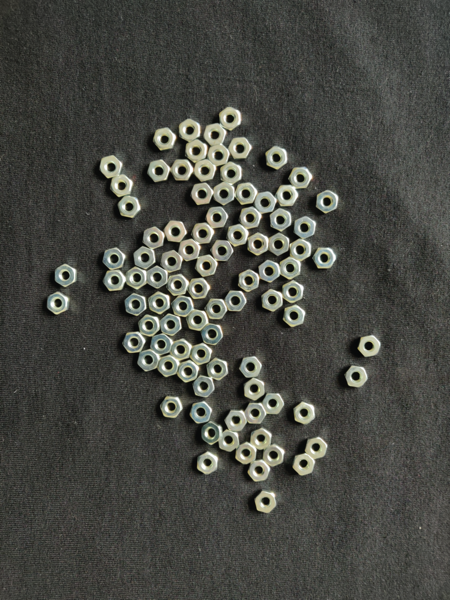nut: (153, 127, 177, 151), (219, 107, 242, 132), (265, 146, 288, 171), (203, 123, 227, 146), (289, 166, 313, 189), (148, 159, 171, 183), (55, 264, 78, 288), (46, 292, 70, 315), (239, 206, 262, 230), (239, 356, 263, 379), (344, 366, 369, 388), (229, 137, 252, 160), (100, 155, 123, 178), (111, 175, 134, 198), (294, 216, 317, 239), (161, 250, 184, 273), (201, 323, 224, 346), (157, 355, 180, 378), (160, 396, 183, 419), (262, 392, 285, 415), (305, 437, 328, 460), (293, 453, 316, 476), (179, 119, 201, 143), (317, 190, 339, 214), (191, 223, 215, 245), (294, 401, 316, 425), (255, 490, 277, 514), (186, 140, 208, 163), (118, 196, 141, 218), (194, 159, 216, 182), (191, 183, 214, 205), (235, 183, 258, 205), (254, 192, 277, 214), (206, 207, 229, 229), (103, 248, 126, 270), (103, 270, 126, 292), (143, 227, 165, 250), (164, 221, 187, 243), (227, 224, 249, 247), (290, 239, 312, 262), (134, 247, 156, 270), (179, 239, 201, 262), (211, 240, 234, 262), (195, 255, 218, 277), (166, 274, 189, 296), (187, 278, 210, 300), (125, 293, 147, 316), (282, 281, 305, 303), (262, 289, 284, 312), (284, 305, 306, 328), (187, 309, 209, 332), (138, 315, 161, 337), (123, 332, 146, 354), (177, 360, 199, 383), (189, 402, 212, 424), (225, 410, 248, 432), (263, 444, 285, 467), (248, 460, 271, 482), (221, 162, 242, 186), (214, 182, 235, 206), (275, 185, 299, 206), (271, 208, 292, 232), (269, 233, 290, 257), (313, 248, 337, 269), (259, 260, 280, 284), (149, 291, 170, 315), (224, 291, 248, 312), (202, 422, 223, 446), (208, 144, 230, 166), (280, 258, 302, 280), (172, 295, 194, 317), (160, 314, 182, 336), (170, 339, 192, 361), (190, 343, 212, 365), (193, 376, 215, 398), (248, 233, 269, 256), (126, 267, 147, 290), (147, 266, 168, 289), (238, 270, 259, 293), (358, 336, 381, 357), (205, 299, 228, 320), (150, 334, 173, 355), (137, 350, 160, 371), (207, 358, 228, 381), (244, 378, 265, 401), (219, 430, 240, 453), (251, 427, 272, 450), (236, 442, 257, 465), (197, 452, 218, 475), (171, 160, 193, 181), (245, 403, 267, 424)
